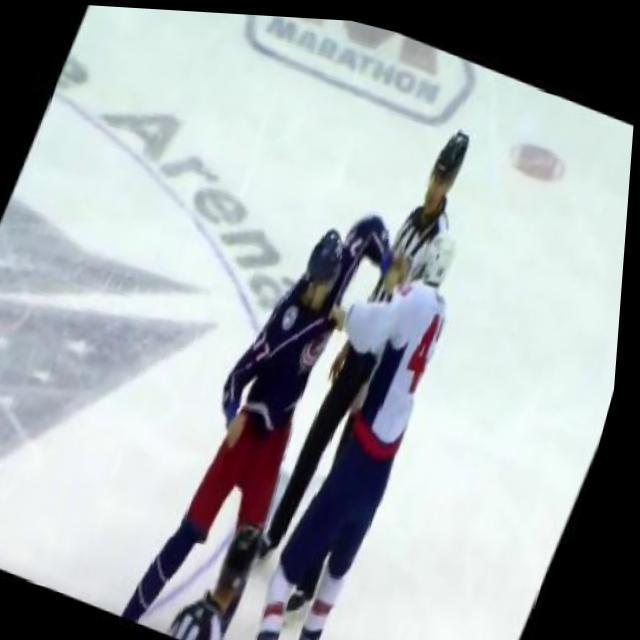fight: (132, 157, 494, 640)
